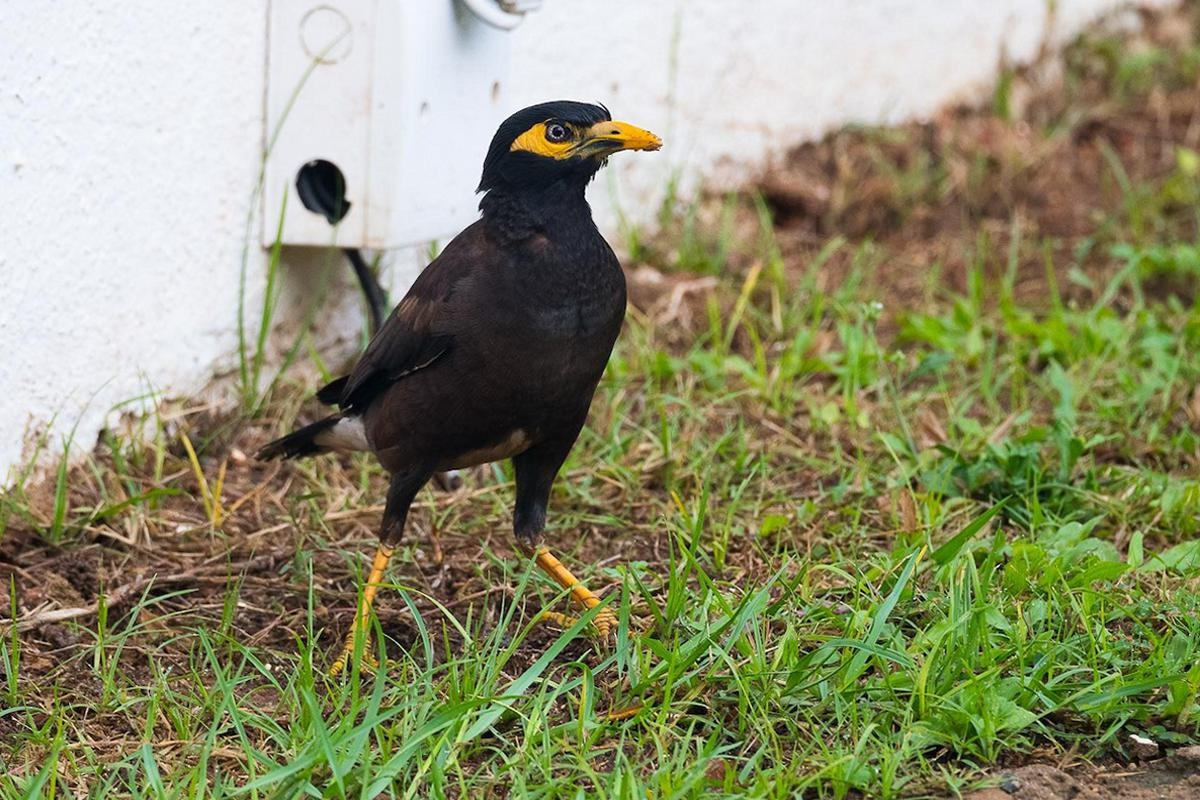myna: (289, 75, 694, 588)
